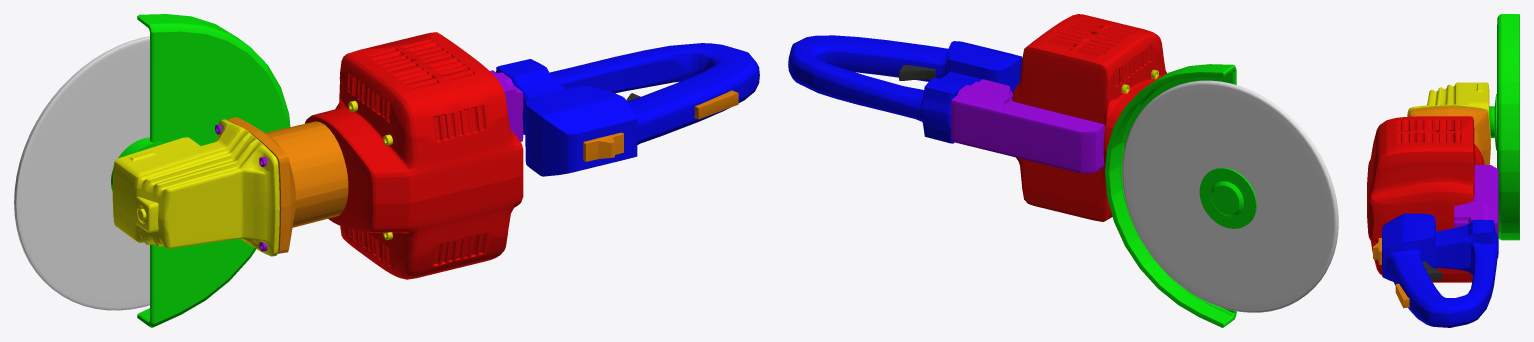
Rendered from angle_grinder.fbx.
3 renders of one model, left to right at view 1: azimuth 30°, elevation 25°; view 2: azimuth 150°, elevation 25°; view 3: azimuth 270°, elevation 25°, orthographic. The views are drawn at different scales.
Parts seen in each view (by area): view 1: polySurface225, polySurface234, polySurface244, polySurface235, polySurface237, polySurface232, polySurface227, polySurface245, polySurface243; view 2: polySurface234, polySurface225, polySurface244, polySurface227, polySurface235, polySurface236, polySurface246; view 3: polySurface225, polySurface244, polySurface235, polySurface227, polySurface237, polySurface232, polySurface236, polySurface246, polySurface243, polySurface245.
Boxes of the visible parts, x1,y1,x2,y2 form: polySurface225: (305, 32, 523, 279); polySurface234: (14, 36, 149, 310); polySurface244: (496, 43, 759, 176); polySurface235: (137, 14, 290, 327); polySurface237: (112, 119, 279, 256); polySurface232: (227, 117, 348, 253); polySurface227: (490, 70, 523, 141); polySurface245: (583, 132, 623, 161); polySurface243: (694, 90, 738, 119); polySurface234: (1122, 80, 1338, 312); polySurface225: (1012, 14, 1167, 221); polySurface244: (788, 35, 1022, 143); polySurface227: (951, 79, 1104, 173); polySurface235: (1105, 64, 1236, 327); polySurface236: (1199, 167, 1256, 228); polySurface246: (899, 65, 935, 80); polySurface225: (1367, 116, 1484, 282); polySurface244: (1382, 213, 1498, 327); polySurface235: (1497, 14, 1519, 240); polySurface227: (1454, 165, 1498, 239); polySurface237: (1407, 82, 1490, 154); polySurface232: (1408, 106, 1490, 164); polySurface236: (1489, 94, 1496, 150); polySurface246: (1422, 261, 1442, 281); polySurface243: (1395, 283, 1409, 308); polySurface245: (1373, 238, 1381, 264).
Bounding box in the file's own units: 18.3 × 7.66 × 4.86.
